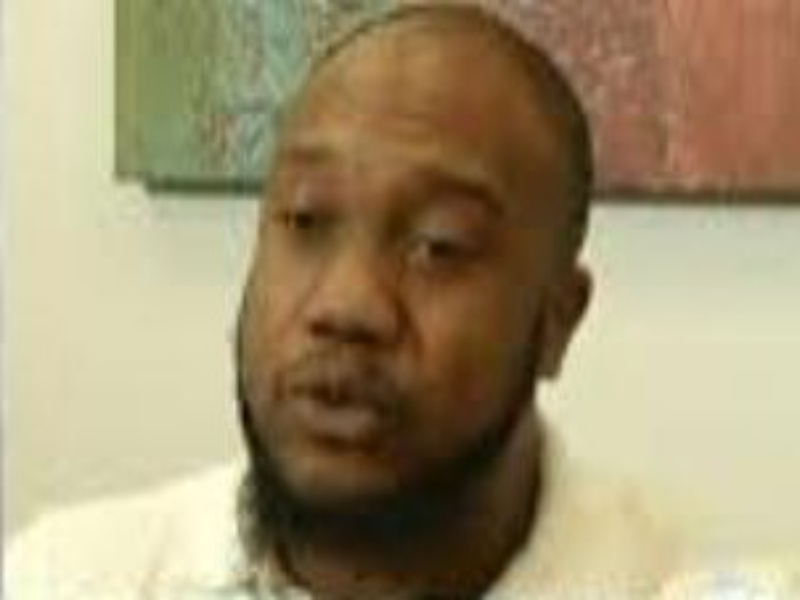TsisyArotava: (218, 4, 593, 542)
